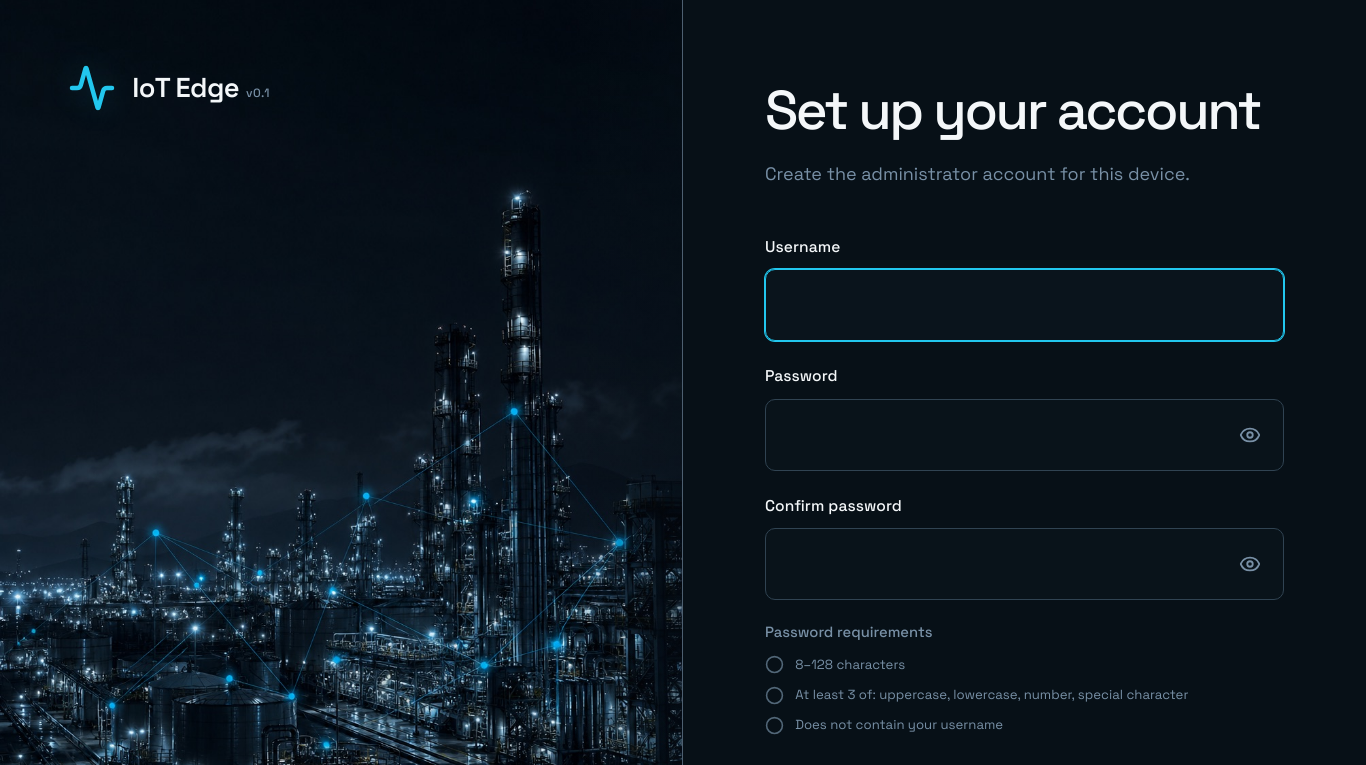
App › completes the mocked setup and login flow into the dashboard
Expected: the heading "Set up your account" is shown, [765, 82, 1284, 140]
Step 1. Type "admin" into the field labelled "Username" → (1025,305), box [765, 269, 1284, 341]
Step 2. Type "SecureP@ss123" into the password field labelled "Password" → (1025,434), box [765, 398, 1284, 470]
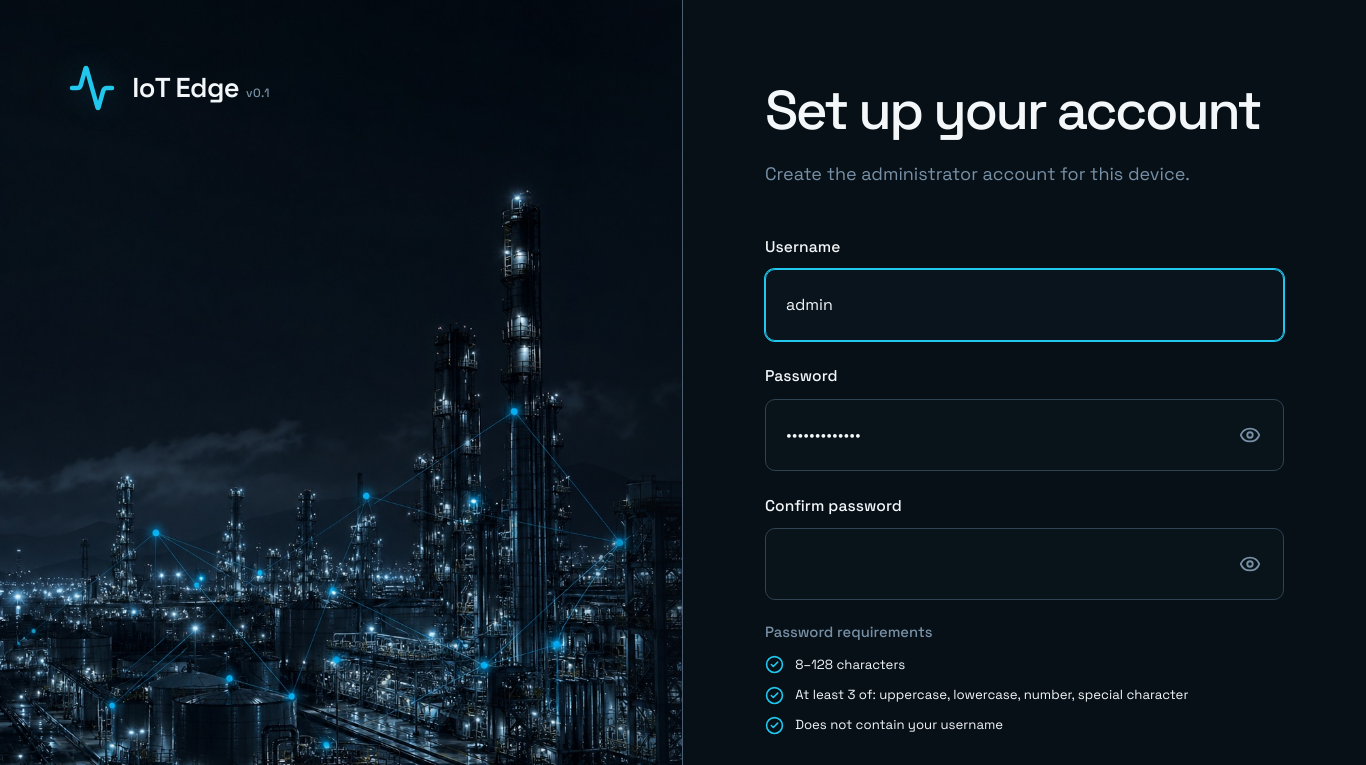
Step 3. Type "SecureP@ss123" into the password field labelled "Confirm password" → (1025,564), box [765, 528, 1284, 600]
(page scrolled)
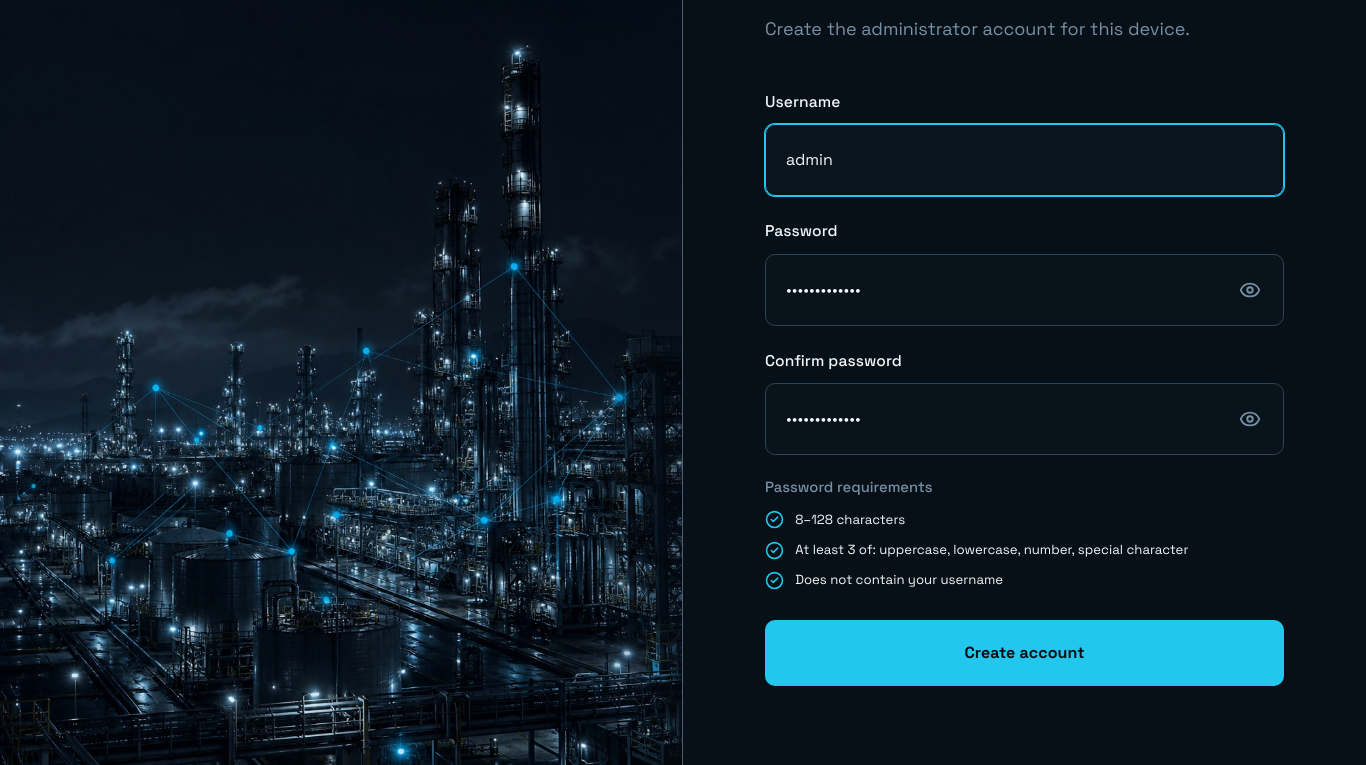
Step 4. Click the button "Create account" → (1025,653), box [765, 620, 1284, 686]
(page scrolled)
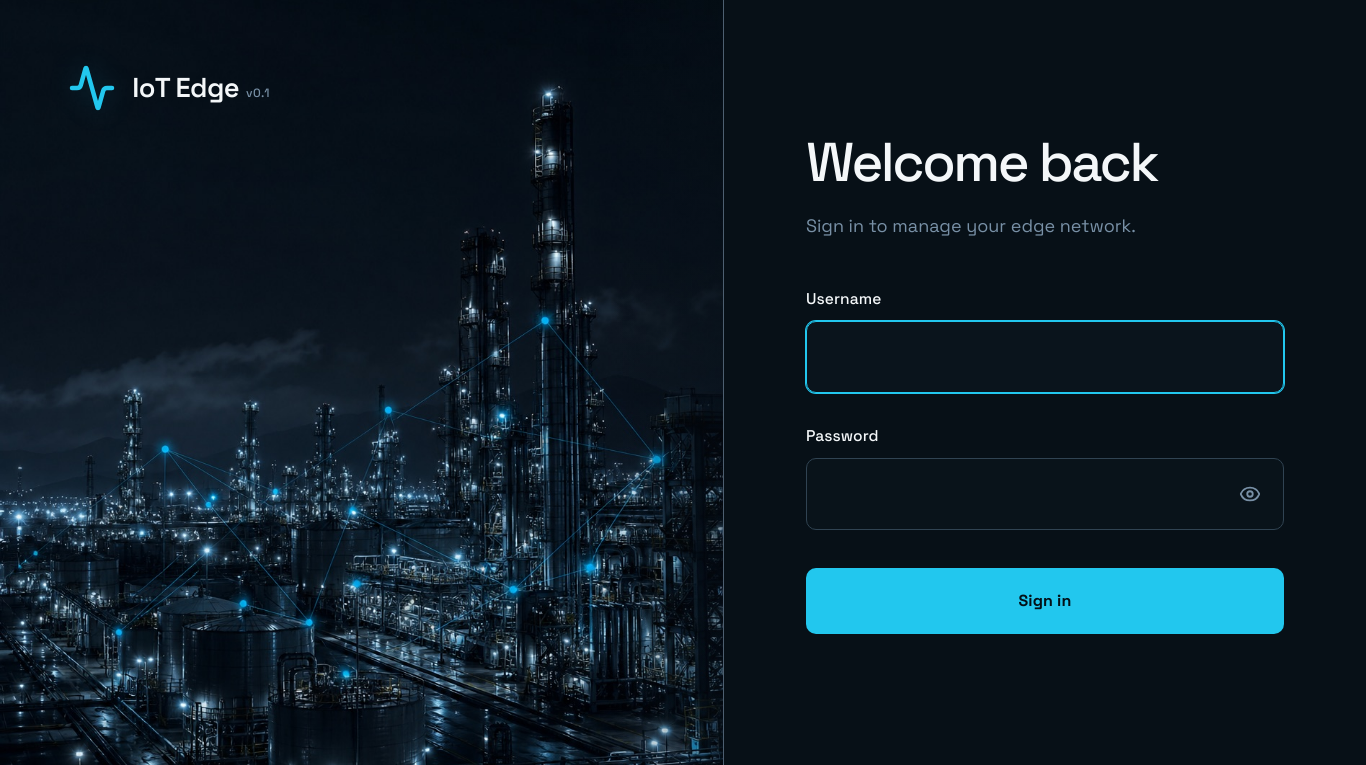
Result: the heading "Welcome back" is shown at [806, 127, 1157, 197]
Step 5. Type "admin" into the field labelled "Username" → (1045,357), box [806, 321, 1284, 393]
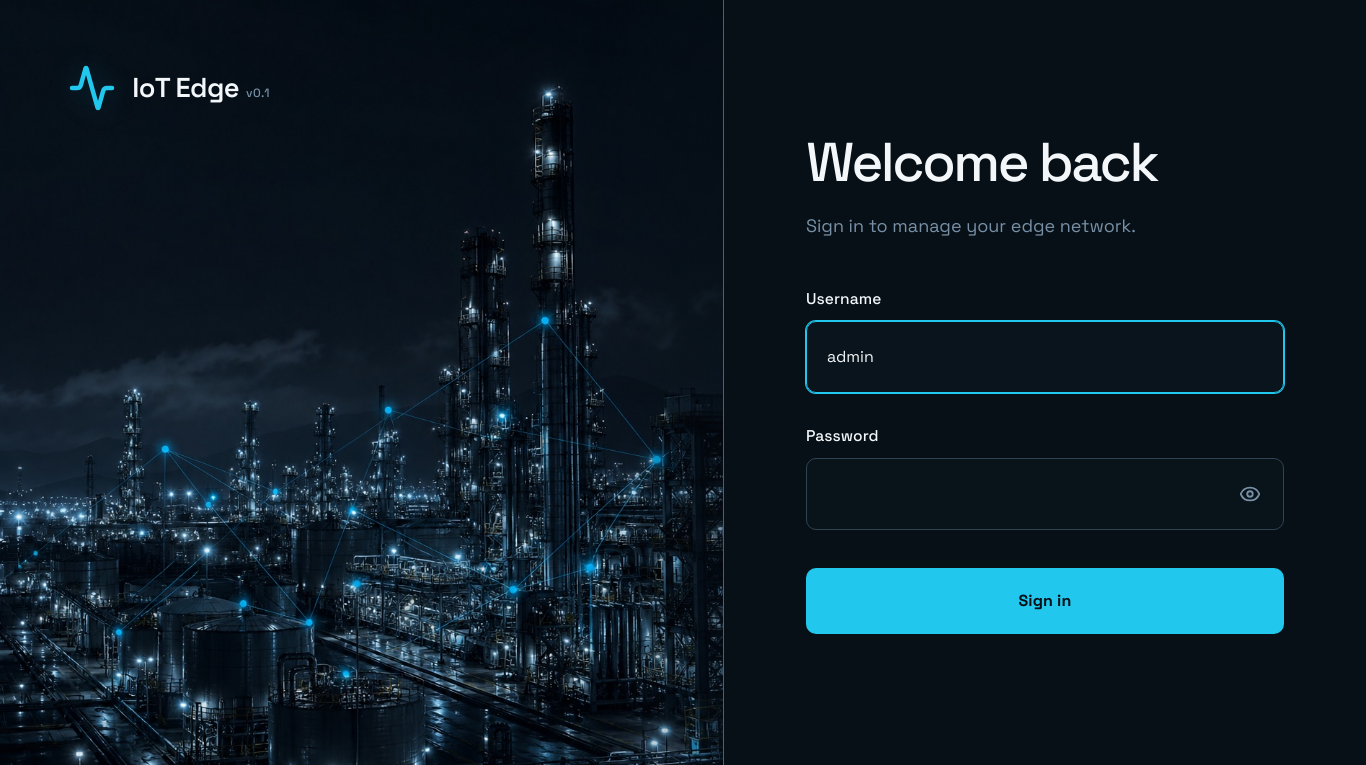
Step 6. Type "SecureP@ss123" into the password field labelled "Password" → (1045,494), box [806, 458, 1284, 530]
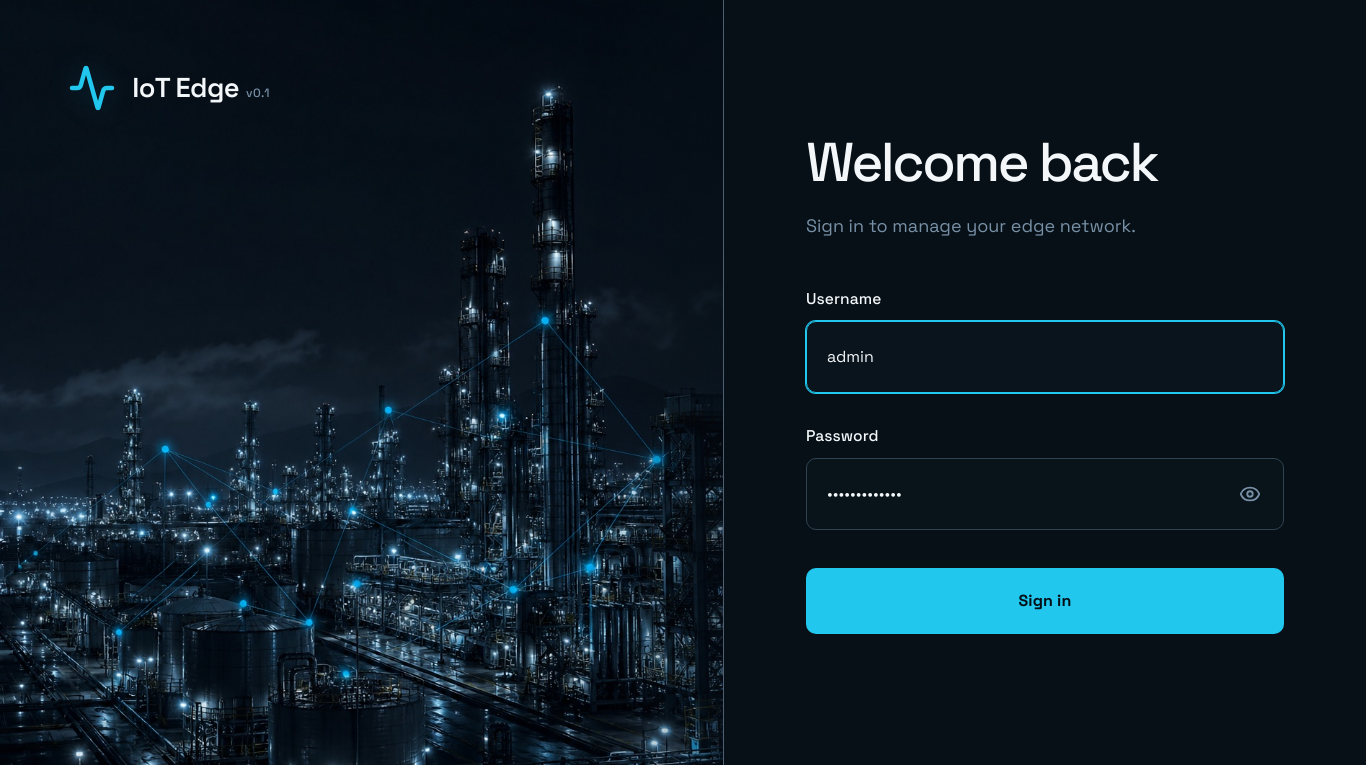
Step 7. Click the button "Sign in" → (1045,601), box [806, 568, 1284, 634]
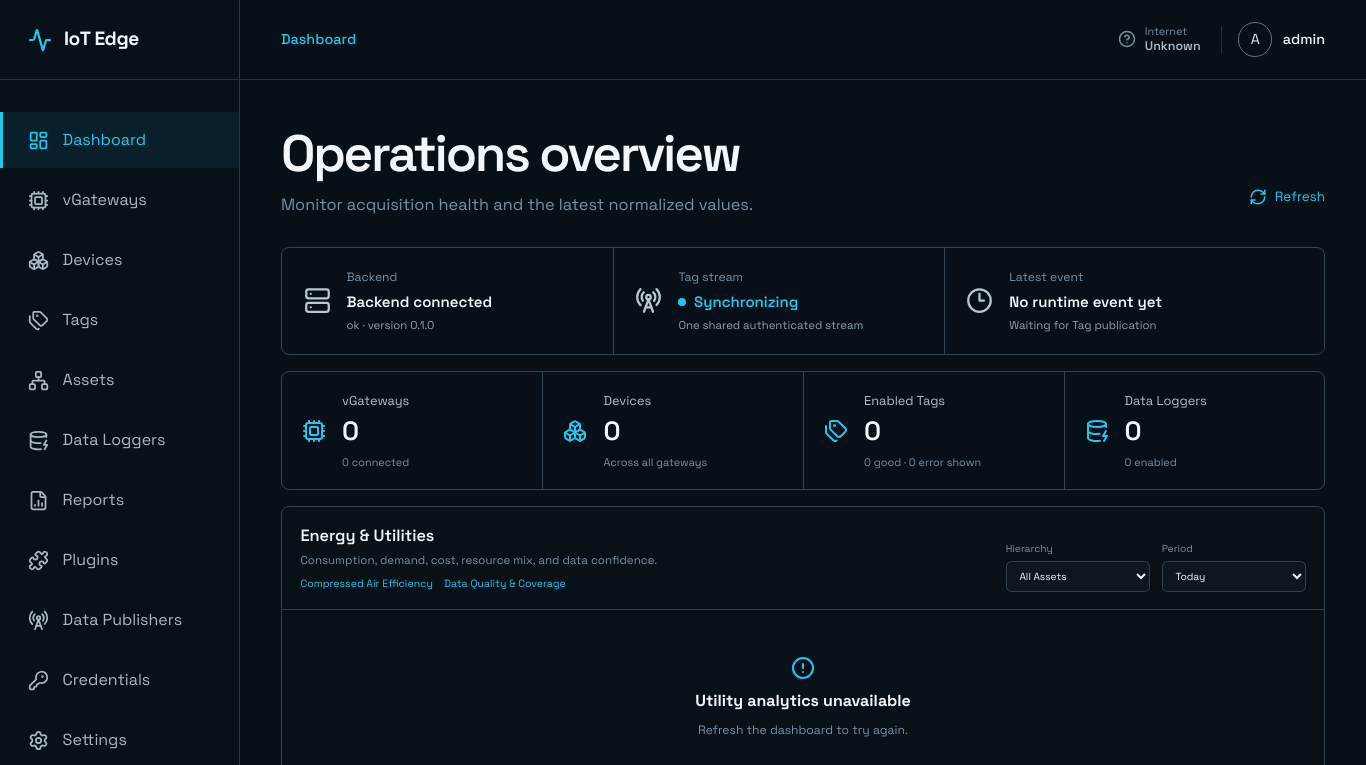
Result: the text "Backend connected" is shown at [347, 291, 492, 313]
